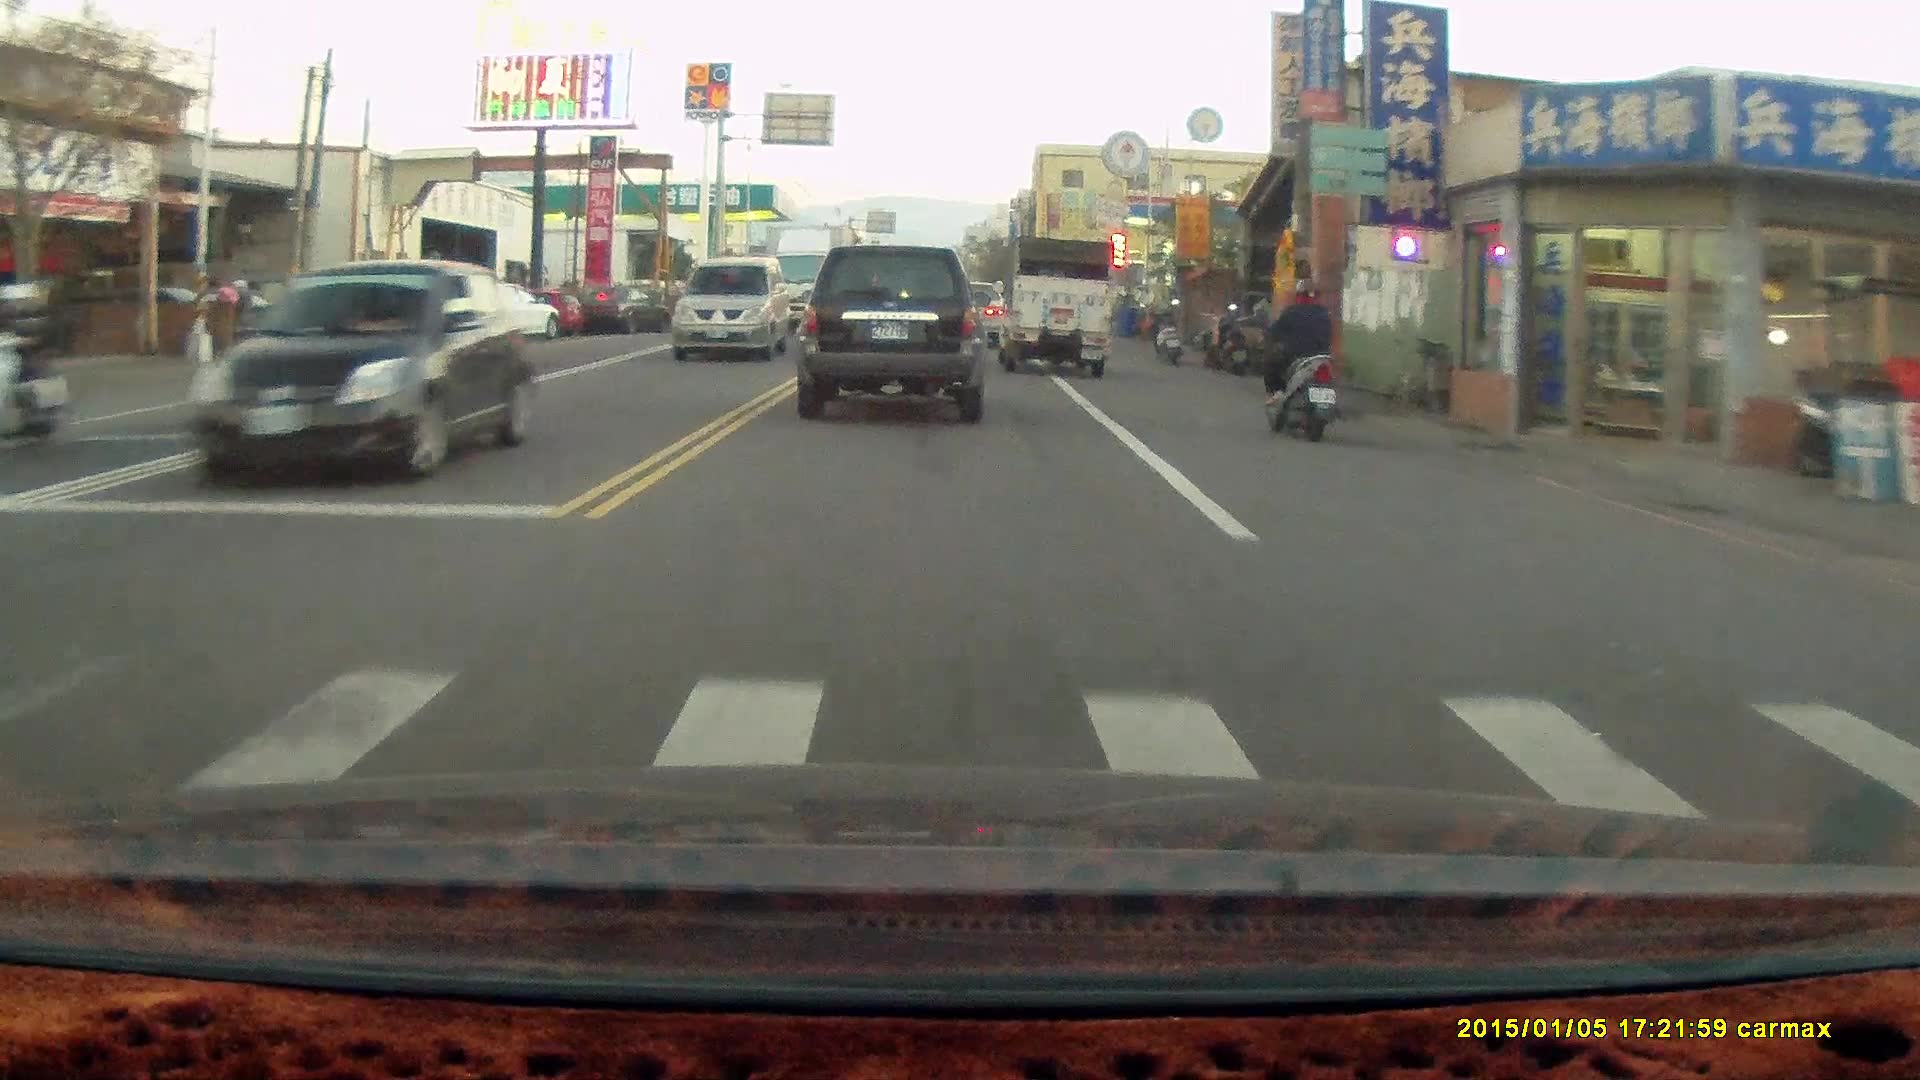rider: (1249, 277, 1342, 445), (0, 274, 68, 445)
vehicle: (188, 260, 536, 487), (795, 244, 989, 424), (994, 233, 1114, 378), (675, 260, 798, 364), (433, 284, 565, 357)
